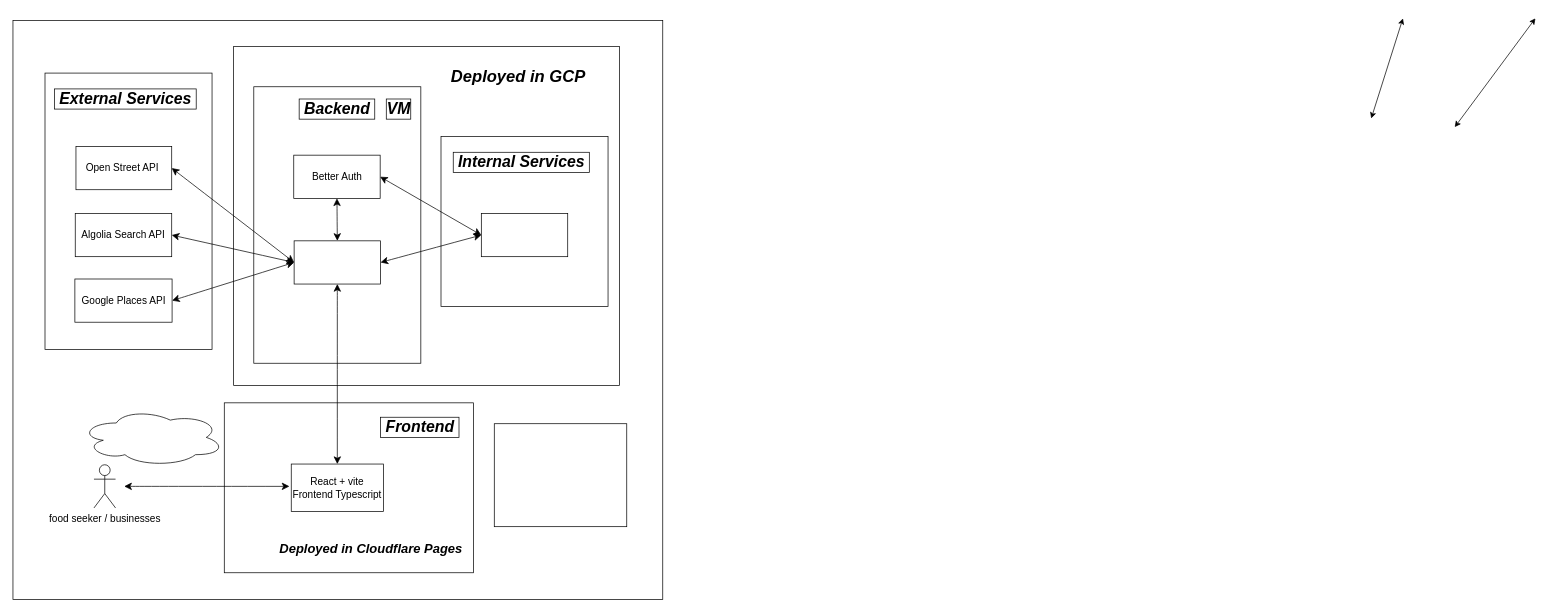
The diagram is 1554 pixels wide and 612 high, and some of its shapes have lost their labels. The box of each missing label's shape, as (x1, y1, x2, y2) in pixels:
Cloud SQL: (481, 213, 568, 257)
Express Rest API: (293, 240, 381, 284)
Note : The double headed arrow represents request & response: (494, 423, 627, 527)
visiting our website: (80, 408, 224, 466)
